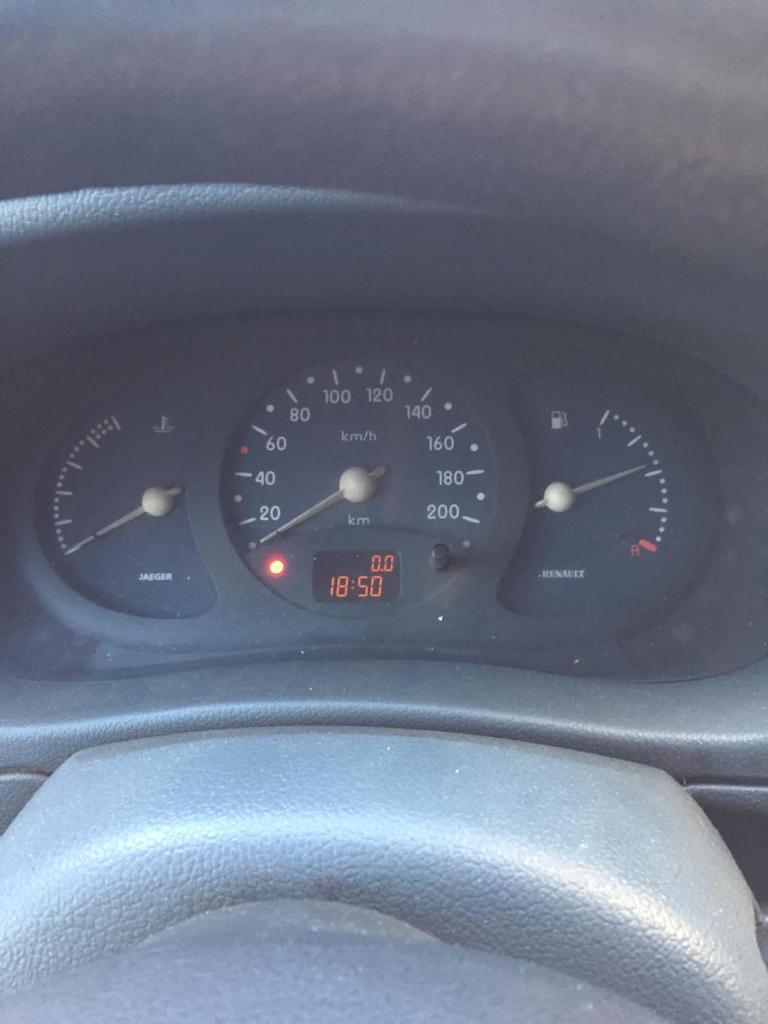,: (379, 567, 383, 572)
0: (369, 575, 382, 597), (370, 555, 381, 571), (383, 555, 393, 571)
1: (329, 575, 334, 596)
5: (357, 575, 368, 597)
8: (335, 575, 348, 598)
X: (350, 579, 354, 590)
odometer: (310, 548, 403, 605)
